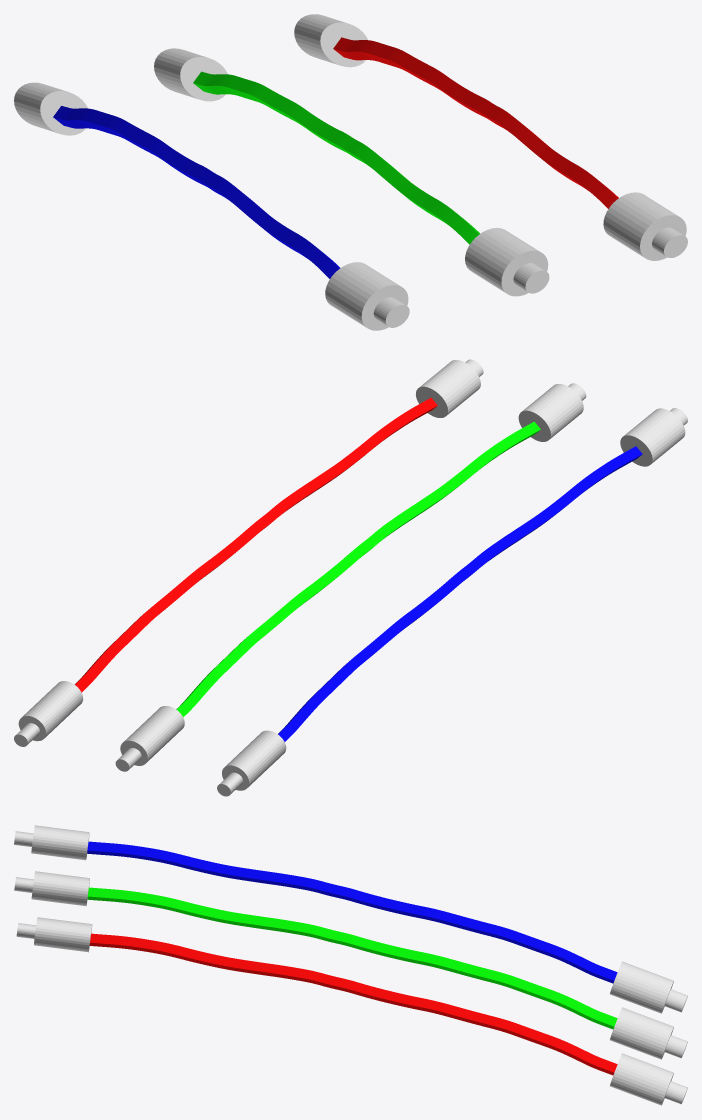
The model's file is Temp_wires_rbg.fbx.
3 renders of one model, top to bottom at view 1: azimuth 30°, elevation 25°; view 2: azimuth 150°, elevation 25°; view 3: azimuth 270°, elevation 25°, orthographic. The views are drawn at different scales.
Parts seen in each view (by area): view 1: GP_Layer.002, GP_Layer, GP_Layer.001, Cylinder.008, Cylinder.004, Cylinder.003, Cylinder.011, Cylinder, Cylinder.007, Cylinder.002, Cylinder.009, Cylinder.005; view 2: GP_Layer, GP_Layer.002, GP_Layer.001, Cylinder.008, Cylinder.003, Cylinder.004, Cylinder, Cylinder.011, Cylinder.007; view 3: GP_Layer, GP_Layer.002, GP_Layer.001, Cylinder, Cylinder.007, Cylinder.011, Cylinder.008, Cylinder.003, Cylinder.004.
Boxes of the visible parts, left/top/right/bottom form: GP_Layer.002: left=53, top=106, right=340, bottom=278; GP_Layer: left=193, top=71, right=480, bottom=244; GP_Layer.001: left=333, top=37, right=618, bottom=208; Cylinder.008: left=325, top=262, right=408, bottom=330; Cylinder.004: left=603, top=192, right=686, bottom=260; Cylinder.003: left=465, top=227, right=548, bottom=296; Cylinder.011: left=14, top=82, right=87, bottom=135; Cylinder: left=154, top=48, right=227, bottom=101; Cylinder.007: left=294, top=14, right=367, bottom=67; Cylinder.002: left=513, top=263, right=549, bottom=293; Cylinder.009: left=373, top=297, right=409, bottom=327; Cylinder.005: left=652, top=227, right=687, bottom=257; GP_Layer: left=176, top=421, right=540, bottom=717; GP_Layer.002: left=278, top=446, right=642, bottom=741; GP_Layer.001: left=74, top=397, right=437, bottom=692; Cylinder.008: left=620, top=408, right=685, bottom=466; Cylinder.003: left=518, top=384, right=583, bottom=441; Cylinder.004: left=416, top=360, right=480, bottom=417; Cylinder: left=120, top=706, right=184, bottom=765; Cylinder.011: left=222, top=730, right=286, bottom=790; Cylinder.007: left=18, top=681, right=83, bottom=741; GP_Layer: left=87, top=887, right=617, bottom=1029; GP_Layer.002: left=87, top=841, right=617, bottom=983; GP_Layer.001: left=89, top=933, right=617, bottom=1075; Cylinder: left=610, top=1007, right=673, bottom=1059; Cylinder.007: left=610, top=1053, right=673, bottom=1105; Cylinder.011: left=610, top=961, right=673, bottom=1013; Cylinder.008: left=31, top=825, right=89, bottom=860; Cylinder.003: left=31, top=871, right=89, bottom=906; Cylinder.004: left=34, top=917, right=92, bottom=952.
Bounding box in the file's own units: 513 × 233 × 989.
